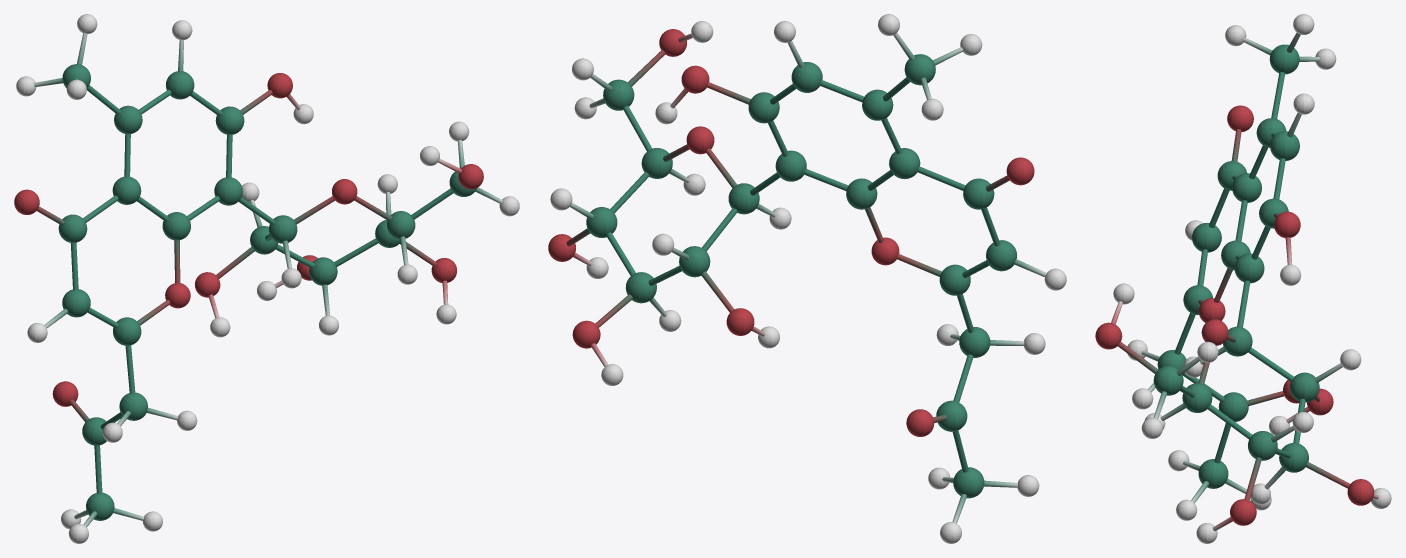
File: Aloesin.fbx
3 views of the same model, side by side, from view 1: azimuth 30°, elevation 25°; view 2: azimuth 150°, elevation 25°; view 3: azimuth 270°, elevation 25° (orthographic). The views are drawn at different scales.
Parts seen in each view (by area): view 1: curMeshHyperballExportedMesh; view 2: curMeshHyperballExportedMesh; view 3: curMeshHyperballExportedMesh.
Boxes of the visible parts, <box> form: curMeshHyperballExportedMesh: <box>14,14,519,543</box>; curMeshHyperballExportedMesh: <box>548,14,1066,543</box>; curMeshHyperballExportedMesh: <box>1095,14,1391,543</box>.
Size of the model in its own units: 10.7 by 10.68 by 5.59.
